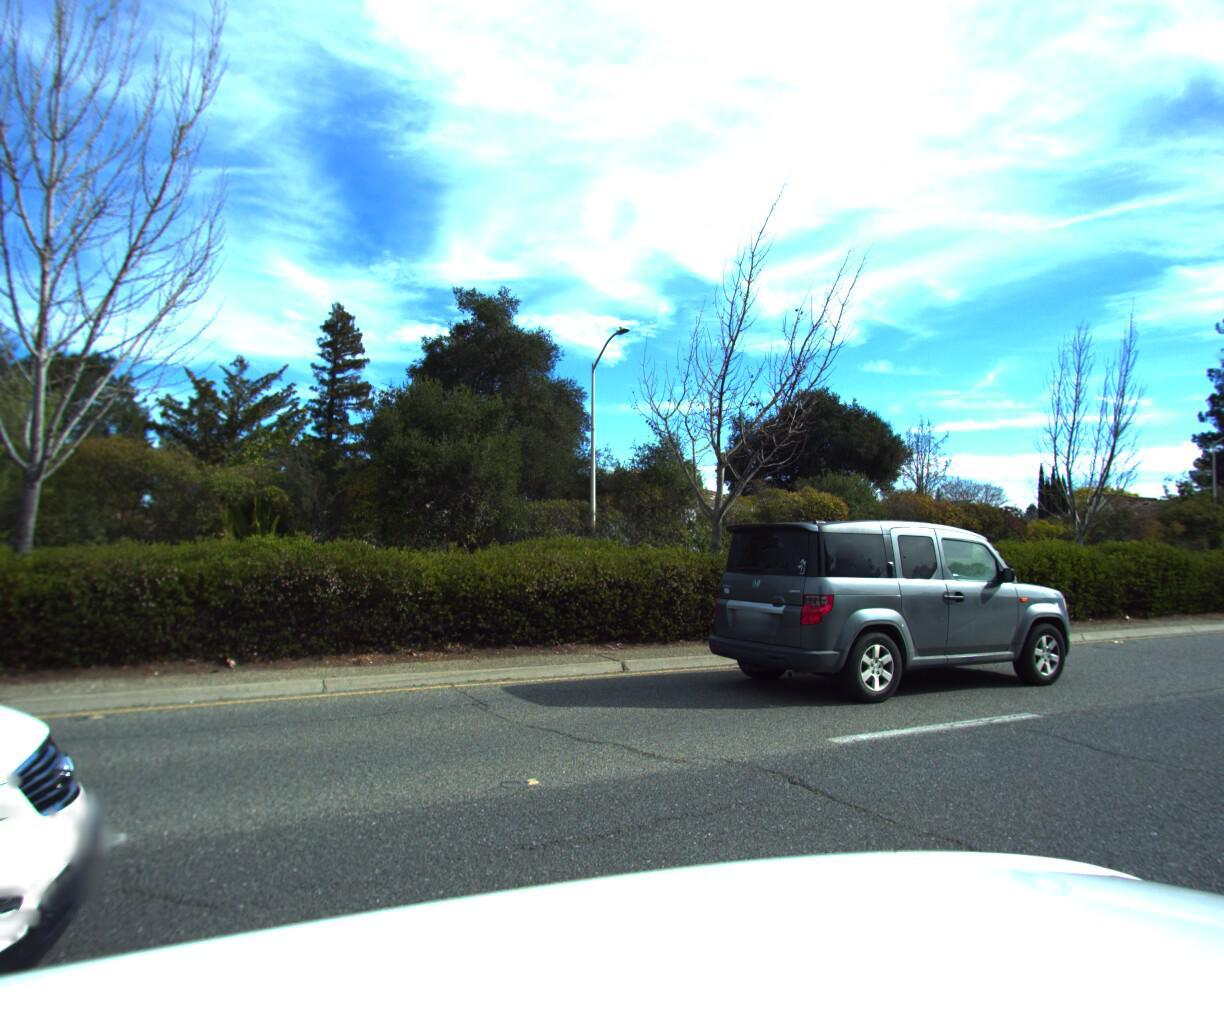car: (0, 0, 175, 1024), (696, 509, 1078, 704)
